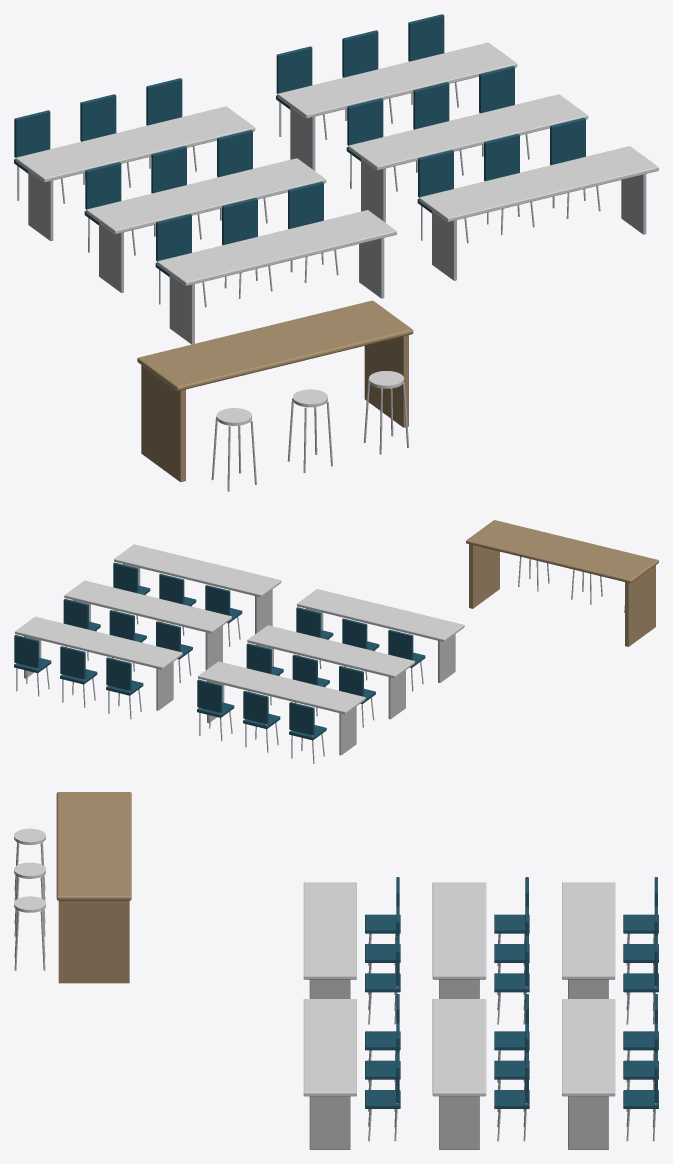
The model's file is SM_L1_Furniture_Solid_c55a43d220_0.fbx.
3 views of the same model, one above another, from view 1: azimuth 30°, elevation 25°; view 2: azimuth 150°, elevation 25°; view 3: azimuth 270°, elevation 25° (orthographic). The views are drawn at different scales.
Parts seen in each view (by area): view 1: SM_L1_Furniture_Solid_c55a43d220_0; view 2: SM_L1_Furniture_Solid_c55a43d220_0; view 3: SM_L1_Furniture_Solid_c55a43d220_0.
Boxes of the visible parts, bbox=[...] form: SM_L1_Furniture_Solid_c55a43d220_0: bbox=[14, 14, 658, 491]; SM_L1_Furniture_Solid_c55a43d220_0: bbox=[14, 520, 658, 763]; SM_L1_Furniture_Solid_c55a43d220_0: bbox=[14, 792, 658, 1149].
Bounding box in the file's own units: 7.3 × 7.24 × 1.09.
